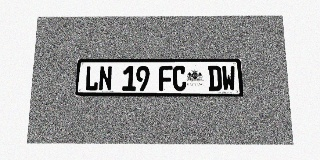1: (122, 66, 136, 91)
9: (136, 66, 150, 91)
C: (173, 66, 186, 91)
D: (208, 66, 222, 91)
F: (159, 66, 172, 91)
L: (85, 66, 99, 91)
N: (98, 66, 112, 91)
W: (221, 66, 236, 91)
